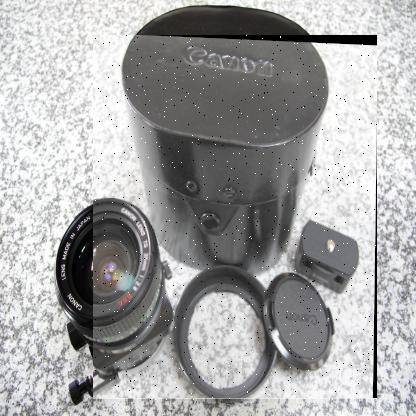Camera: (94, 37, 379, 403)
